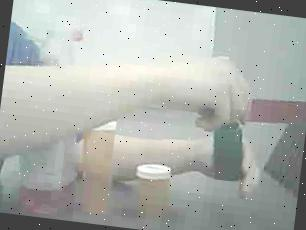Bottle A: (74, 116, 121, 220)
Bottle B: (127, 158, 181, 224)
Bottle C: (201, 107, 251, 185)
hazard: (20, 23, 98, 221)
